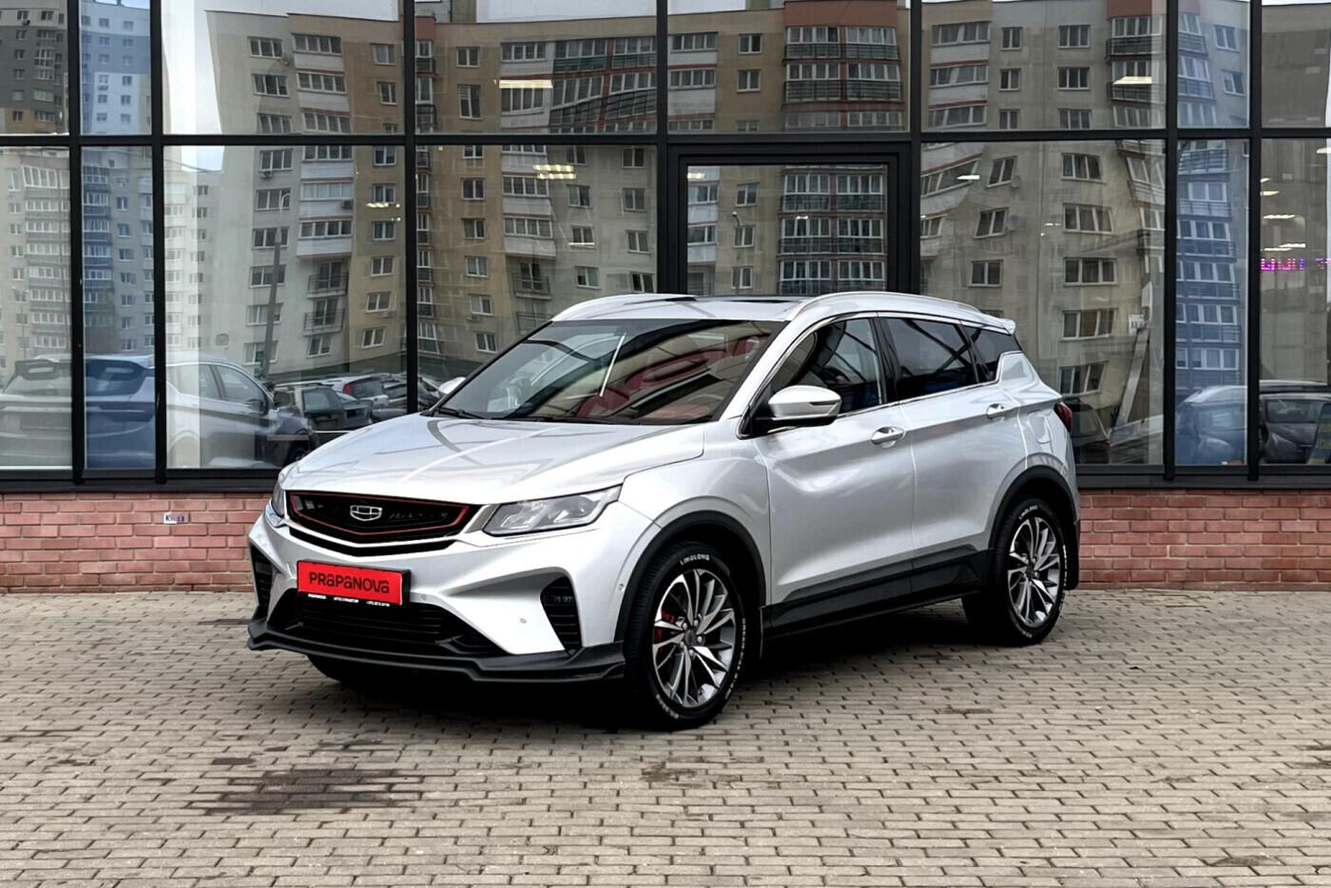Coolray_2019-2023: (234, 291, 1086, 740)
